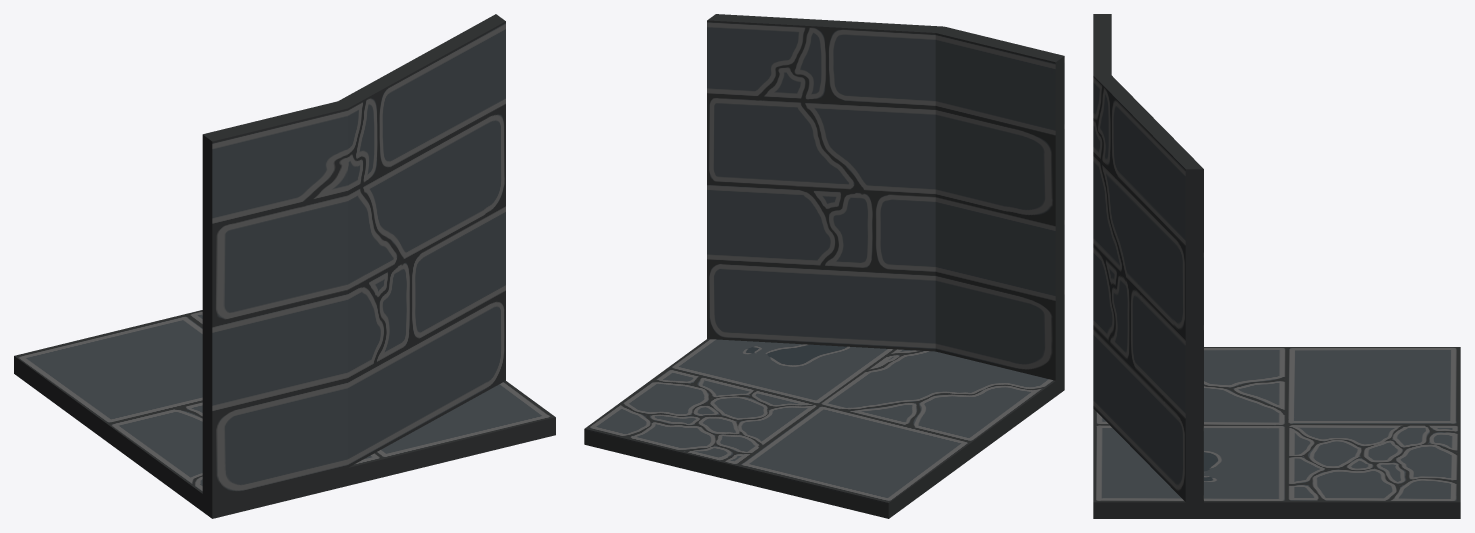
The model's file is Wall-XLCURVE-SbE_v1.1.fbx.
The picture shows the model from 3 angles, left to right: view 1: azimuth 30°, elevation 25°; view 2: azimuth 150°, elevation 25°; view 3: azimuth 270°, elevation 25°; orthographic projection. The views are drawn at different scales.
Parts seen in each view (by area): view 1: Tile_Main.021; view 2: Tile_Main.021; view 3: Tile_Main.021.
Part boxes in pixels (x1=…): Tile_Main.021: x1=14, y1=14, x2=555, y2=518; Tile_Main.021: x1=584, y1=14, x2=1064, y2=518; Tile_Main.021: x1=1093, y1=14, x2=1460, y2=518.
Size of the model in its own units: 100 by 100 by 105.
